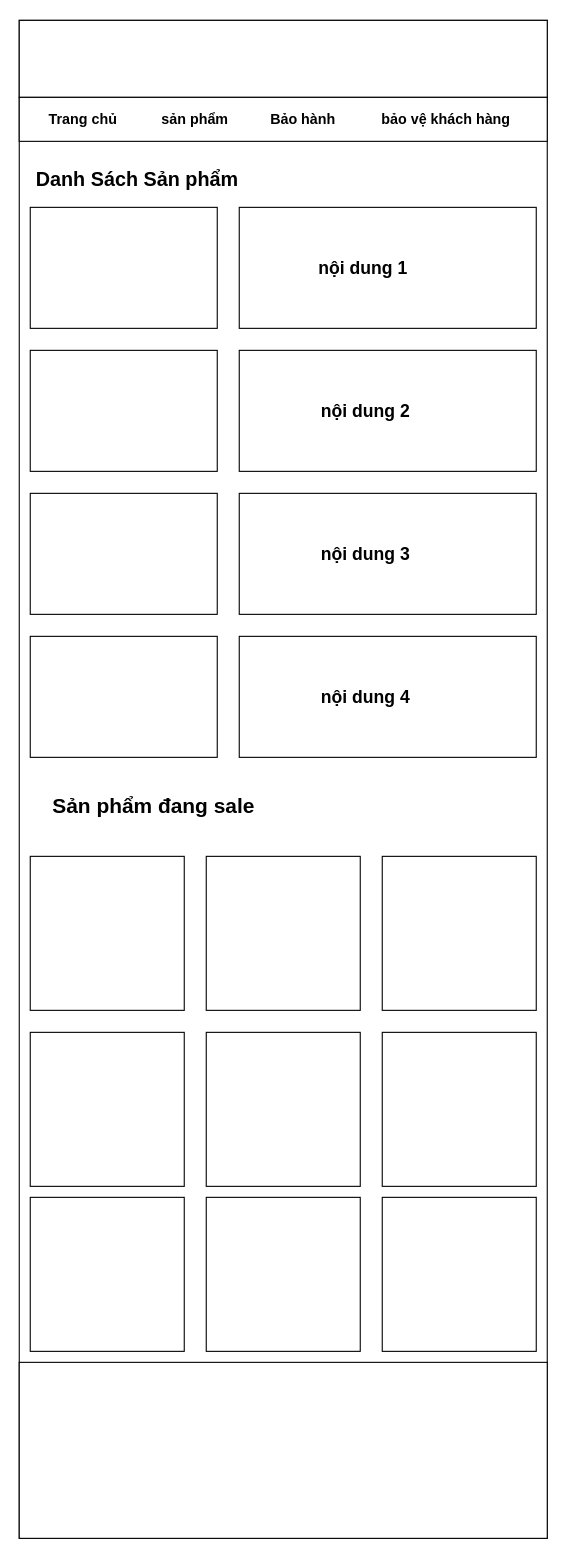
Some shapes in this 567 by 1558 pixel diagram are drawn without their labels. The centre of each missing label's shape, as x and y in pixels:
"FOOTER" belongs at (x=282, y=1449).
"LOGO" belongs at (x=282, y=58).
